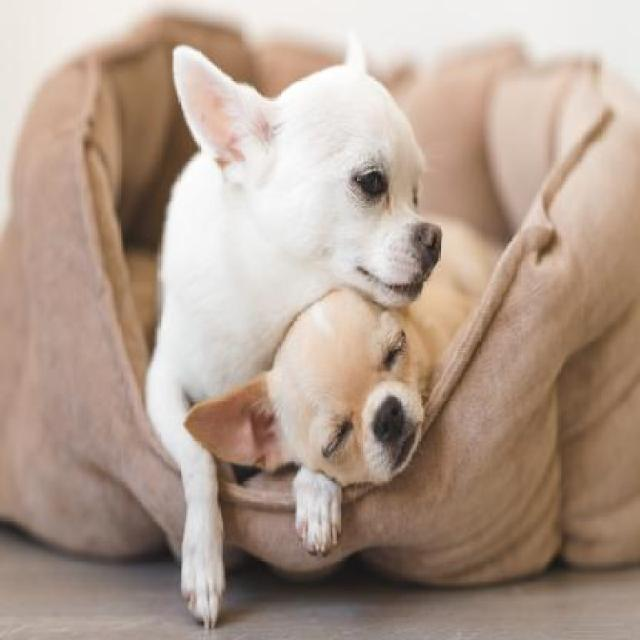animals: (152, 31, 457, 331), (206, 223, 434, 572)
